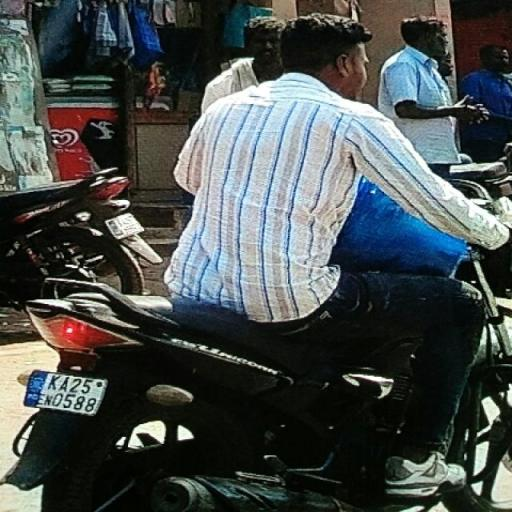bike: (4, 1, 512, 512)
numberplate: (20, 364, 110, 420)
withouthelmet: (286, 13, 368, 93)
